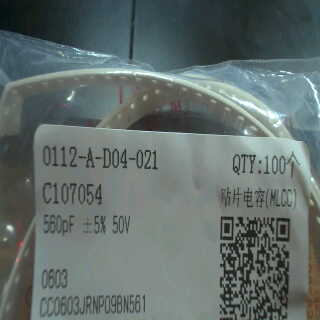560pF: (40, 211, 79, 237)
